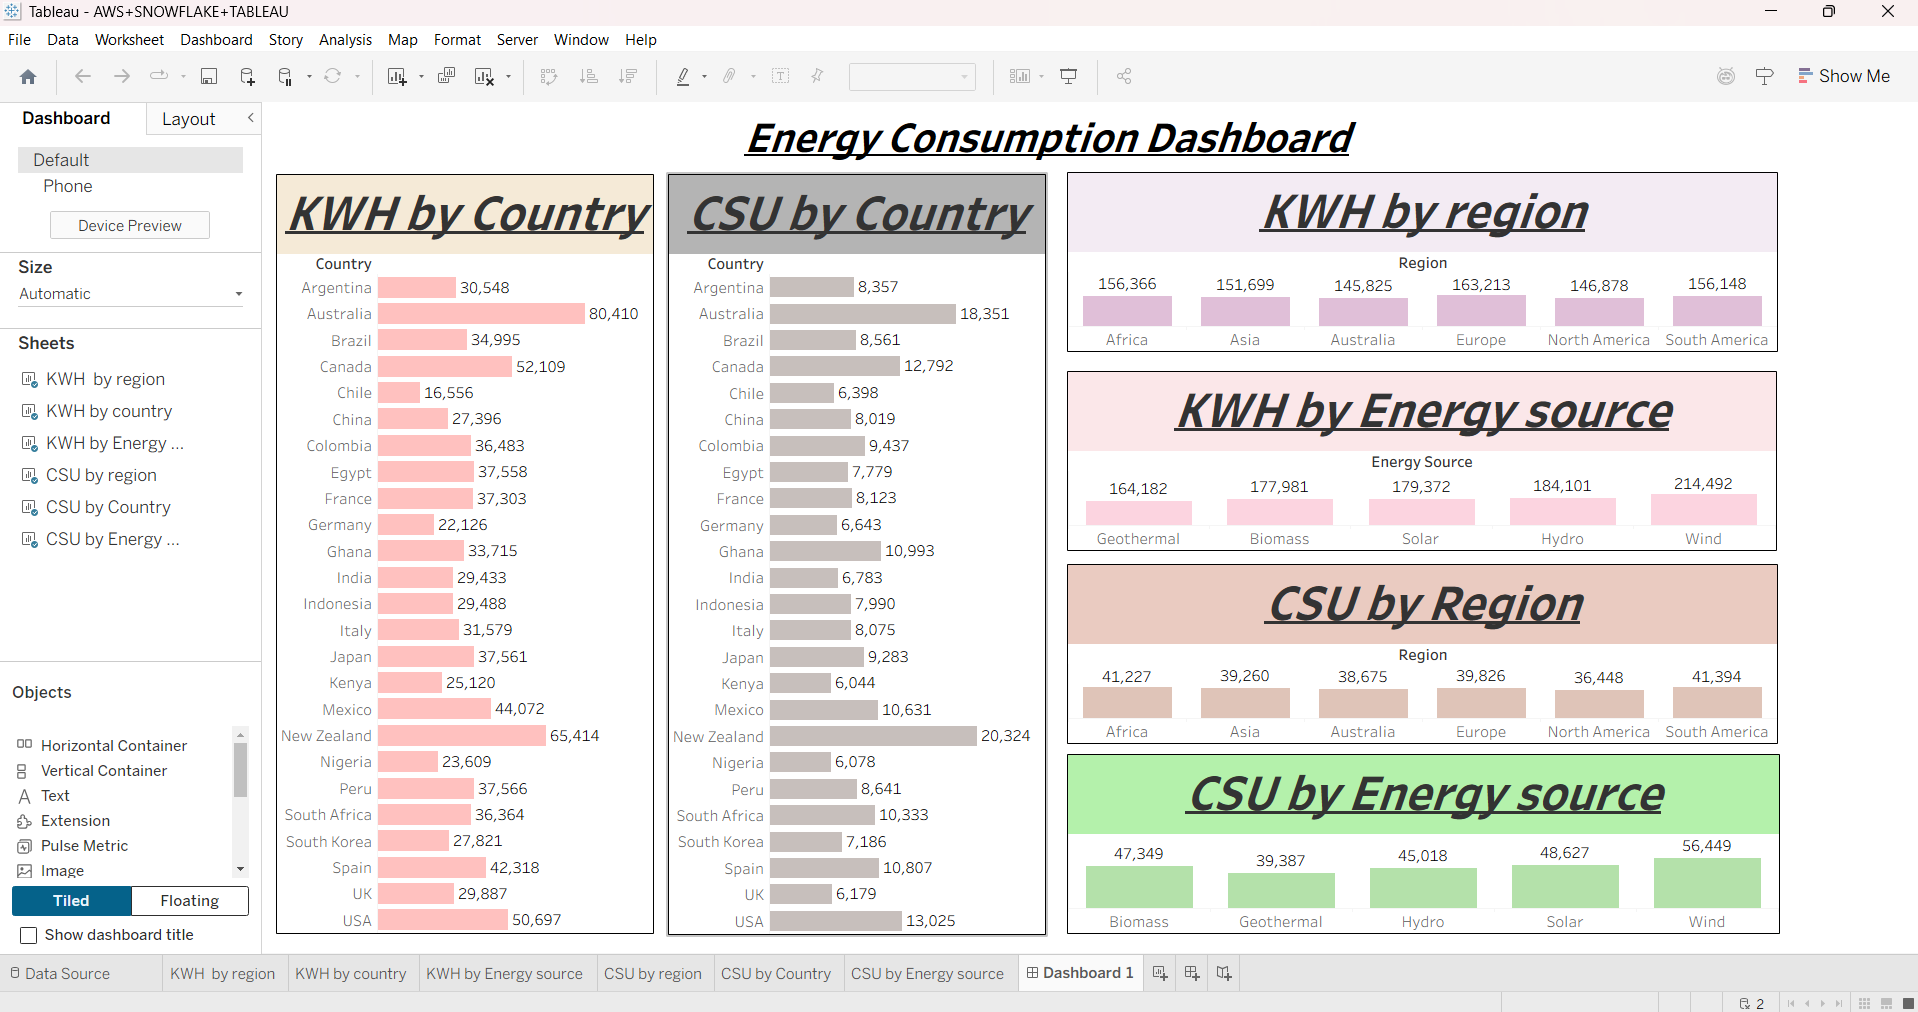

The page's visual inventory and layout, read from the dashboard file:
{"tool":"tableau","page":{"name":"Dashboard 1","canvas":[1000,1000],"units":"permille","ordinal":0},"visuals":[{"type":"text","box":[38,0,875.7,78.7]},{"type":"worksheet","title":"KWH  by region","mark":"Automatic","rows":["MONTHLY_USAGE_KWH"],"cols":["REGION"],"box":[485.8,82.3,429.1,211.5]},{"type":"worksheet","title":"KWH by country","mark":"Automatic","rows":["COUNTRY"],"cols":["MONTHLY_USAGE_KWH"],"box":[8.4,84.6,228.1,893.1]},{"type":"worksheet","title":"CSU by Country","mark":"Automatic","rows":["COUNTRY"],"cols":["COST_SAVINGS_USD"],"box":[245,84.6,228.1,894.2]},{"type":"worksheet","title":"KWH by Energy source","mark":"Automatic","rows":["MONTHLY_USAGE_KWH"],"cols":["ENERGY_SOURCE"],"box":[485.8,316.1,428.5,211.5]},{"type":"worksheet","title":"CSU by region","mark":"Automatic","rows":["COST_SAVINGS_USD"],"cols":["REGION"],"box":[485.8,542.9,429.1,211.5]},{"type":"worksheet","title":"CSU by Energy source","mark":"Automatic","rows":["COST_SAVINGS_USD"],"cols":["ENERGY_SOURCE"],"box":[485.8,766.2,430.3,211.5]}]}

Visuals, with their boxes on the dashboard's canvas, which has no fixed pixel size, in thousandths of its width and height (x1, y1, x2, y2). These are canvas units, not pixel positions in the 1918x1012 screenshot, which may show the page scaled, cropped or inside an application window:
text: left=38, top=0, right=914, bottom=79
"KWH  by region" worksheet: left=486, top=82, right=915, bottom=294
"KWH by country" worksheet: left=8, top=85, right=236, bottom=978
"CSU by Country" worksheet: left=245, top=85, right=473, bottom=979
"KWH by Energy source" worksheet: left=486, top=316, right=914, bottom=528
"CSU by region" worksheet: left=486, top=543, right=915, bottom=754
"CSU by Energy source" worksheet: left=486, top=766, right=916, bottom=978
